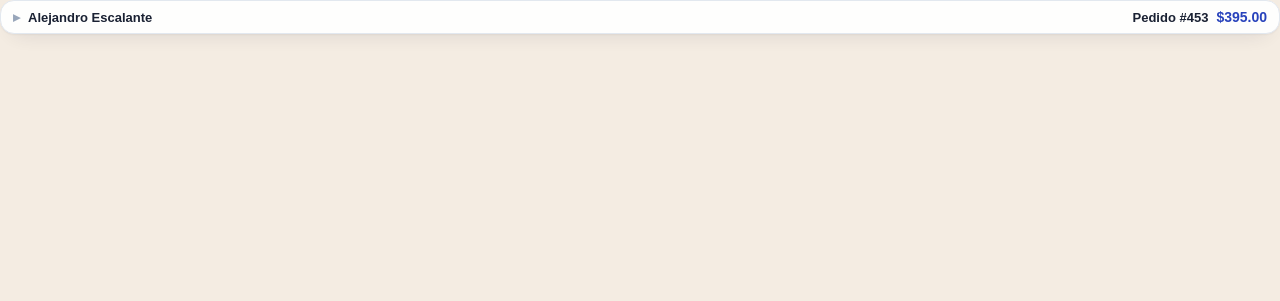
Scenario: el historial abre al click y muestra los productos
The image size is (1280, 301).
Expected: the text "Roxidolin" is not shown
Click the button "▸ Alejandro Escalante Pedido #453 $395.00": x=90, y=17 [13,9,1267,25]
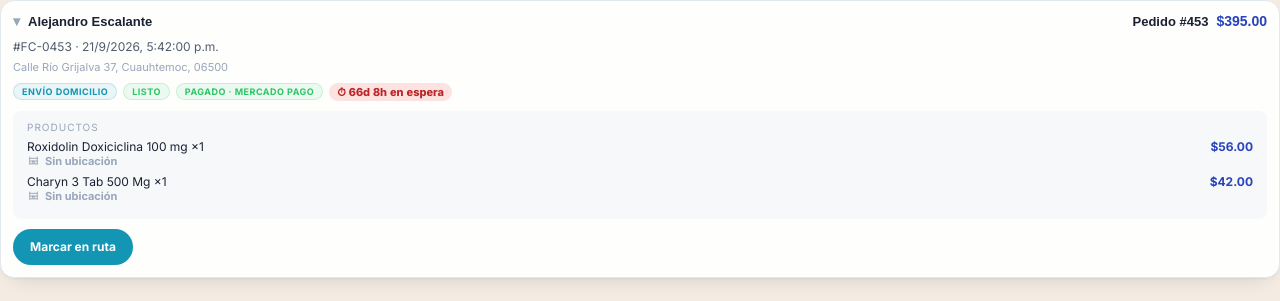
Expected: the button "▾ Alejandro Escalante Pedido #453 $395.00" is expanded, [13,13,1267,29]
Expected: the text "Roxidolin Doxiciclina 100 mg ×1" is shown, [27,139,204,154]
Expected: the text "Charyn 3 Tab 500 Mg ×1" is shown, [27,174,167,189]
